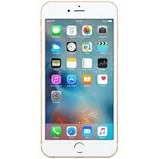iphone: (39, 1, 119, 159)
iphone6: (39, 1, 119, 159)
